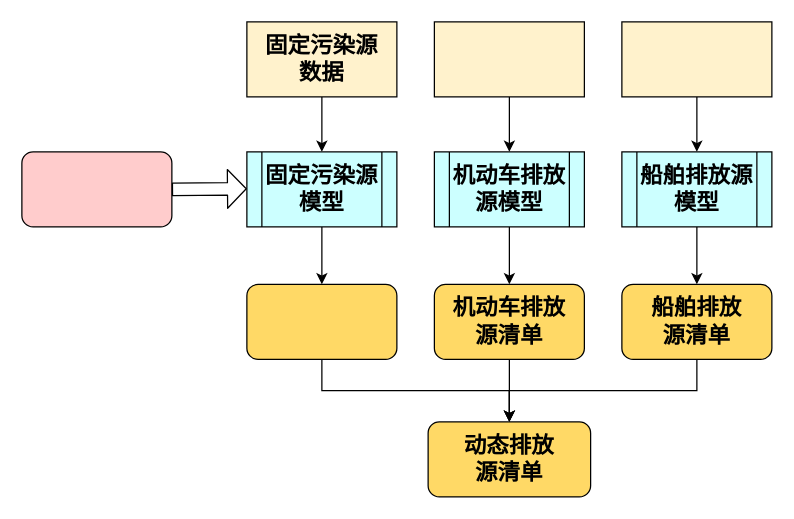
Image size: 794x519. Some labels were removed from this diagram. The box of each missing label's shape, as (x1, y1, x2, y2) in pixels:
固定污染源排放源清单: (246, 283, 397, 359)
机动车源 数据: (433, 21, 584, 97)
船舶源 数据: (621, 21, 772, 97)
静态排放 源清单: (21, 151, 172, 227)
